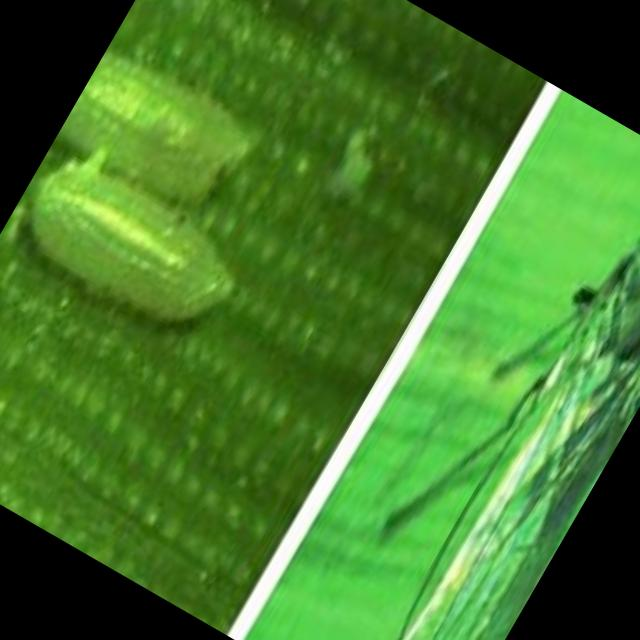whorl-maggot: (0, 133, 261, 363), (56, 29, 282, 232)
